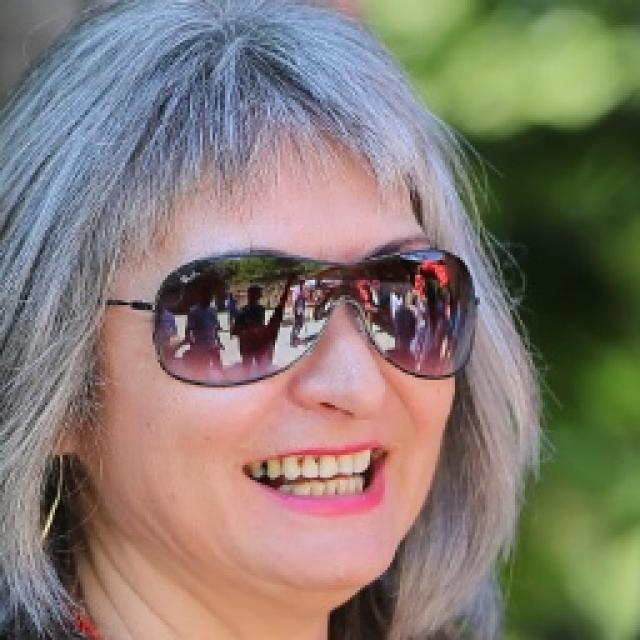glasses: (89, 238, 513, 386)
